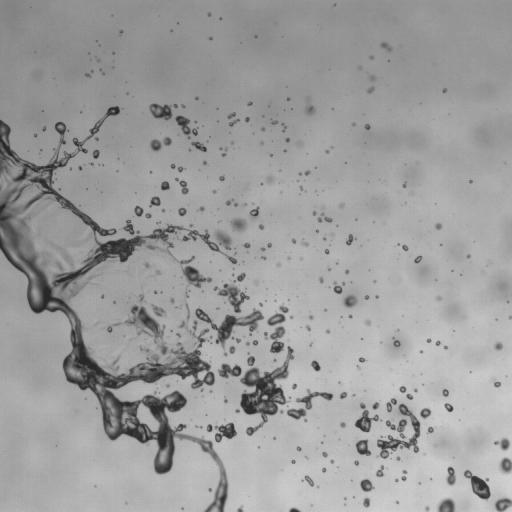droplet: (218, 346, 333, 435), (376, 403, 420, 458), (214, 273, 248, 313), (355, 403, 380, 432), (206, 422, 236, 442), (150, 137, 171, 151), (437, 497, 456, 511), (355, 439, 371, 455), (230, 218, 247, 232), (494, 497, 511, 511), (150, 304, 166, 317), (494, 438, 511, 450), (499, 457, 511, 474), (360, 478, 374, 492), (343, 295, 357, 307), (228, 112, 239, 126), (386, 398, 396, 412), (317, 213, 332, 222), (333, 281, 344, 293), (249, 207, 259, 219), (149, 196, 160, 206), (420, 408, 431, 418), (303, 475, 313, 486), (151, 268, 161, 278), (311, 360, 320, 371), (381, 42, 391, 51), (305, 105, 315, 114), (134, 206, 143, 216), (346, 234, 355, 244), (376, 465, 384, 476), (444, 403, 453, 412), (161, 181, 169, 190), (144, 261, 153, 269), (363, 497, 370, 507), (266, 175, 274, 183), (178, 208, 186, 216), (494, 342, 502, 350), (393, 338, 400, 346), (183, 290, 189, 299), (367, 86, 374, 93), (414, 256, 421, 263), (493, 380, 500, 387), (399, 386, 406, 393), (372, 402, 379, 409), (93, 150, 99, 158), (339, 392, 347, 398), (176, 332, 182, 339), (229, 346, 235, 353), (442, 389, 448, 396), (406, 393, 413, 399), (427, 426, 433, 433), (226, 199, 232, 205), (435, 223, 441, 229), (302, 240, 308, 246), (303, 170, 310, 175), (243, 243, 250, 248), (358, 357, 365, 362), (236, 506, 243, 511), (145, 213, 151, 218), (251, 340, 257, 345), (370, 75, 375, 80), (365, 124, 370, 129), (219, 175, 224, 180), (199, 206, 204, 211), (258, 224, 263, 229), (402, 245, 407, 250), (365, 320, 370, 325), (340, 422, 345, 427), (322, 452, 327, 457), (271, 120, 277, 124), (85, 73, 90, 77), (245, 117, 249, 122), (325, 249, 329, 254), (319, 277, 323, 282), (436, 296, 441, 300), (170, 298, 174, 303), (306, 325, 310, 330), (436, 340, 440, 345), (292, 383, 296, 388), (296, 446, 301, 450), (354, 460, 358, 465), (425, 506, 429, 511), (442, 88, 446, 92), (42, 126, 46, 130), (285, 138, 289, 142), (297, 142, 301, 146), (340, 203, 344, 207), (291, 238, 295, 242), (267, 243, 271, 247), (345, 269, 349, 273), (364, 295, 368, 299), (309, 315, 313, 319), (396, 456, 400, 460), (291, 459, 295, 463), (330, 459, 334, 463), (119, 30, 122, 34), (262, 127, 265, 131), (78, 166, 81, 170), (403, 183, 406, 187), (300, 186, 303, 190), (312, 211, 316, 214), (467, 254, 470, 258), (277, 263, 281, 266), (326, 329, 329, 333), (427, 338, 430, 342), (246, 341, 249, 345), (444, 345, 447, 349), (224, 351, 227, 355), (414, 388, 417, 392), (224, 398, 227, 402), (322, 468, 325, 472), (370, 56, 373, 59), (248, 102, 251, 105), (326, 150, 329, 153), (234, 203, 237, 206), (261, 247, 264, 250), (262, 256, 265, 259), (259, 303, 262, 306), (290, 315, 293, 318), (349, 315, 352, 318), (357, 365, 360, 368), (166, 384, 169, 387), (509, 315, 511, 319), (195, 97, 198, 99), (182, 104, 184, 107), (352, 123, 355, 125), (34, 134, 37, 136), (95, 137, 97, 140), (260, 142, 263, 144), (203, 161, 206, 163), (162, 209, 164, 212), (158, 221, 160, 224), (254, 281, 257, 283), (154, 290, 156, 293), (178, 305, 180, 308), (420, 350, 422, 353), (395, 479, 398, 481), (208, 13, 210, 15), (287, 98, 289, 100), (270, 154, 272, 156), (299, 173, 301, 175), (213, 190, 215, 192), (244, 203, 246, 205), (316, 230, 318, 232), (323, 238, 325, 240), (101, 295, 103, 297), (376, 295, 378, 297), (95, 323, 97, 325), (274, 359, 276, 361), (198, 426, 200, 428), (209, 489, 211, 491)
ligament: (0, 106, 261, 511), (264, 304, 288, 353), (464, 469, 490, 500), (175, 115, 197, 137), (149, 103, 177, 119), (176, 178, 188, 194), (446, 466, 455, 485), (192, 142, 206, 151), (171, 164, 184, 172), (401, 470, 406, 481), (289, 507, 300, 511), (222, 148, 227, 156), (282, 124, 286, 131), (0, 185, 1, 189)
